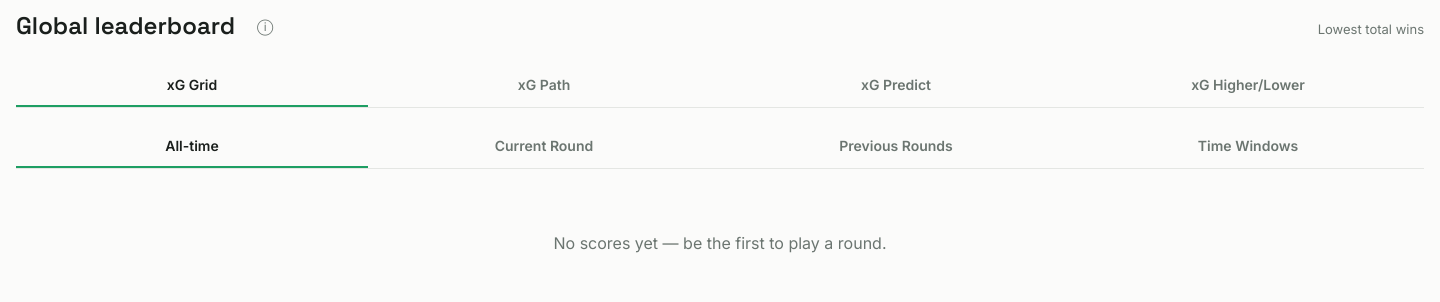
it: LiveLeaderboard › REQ407: an active round with no participants yet shows a calm empty state, distinct from "no active round"
Expected: the text "No scores yet — be the first to play a round." is shown, [554,233,886,253]
Click the tab "Current Round": (544, 146) [368,124,720,168]
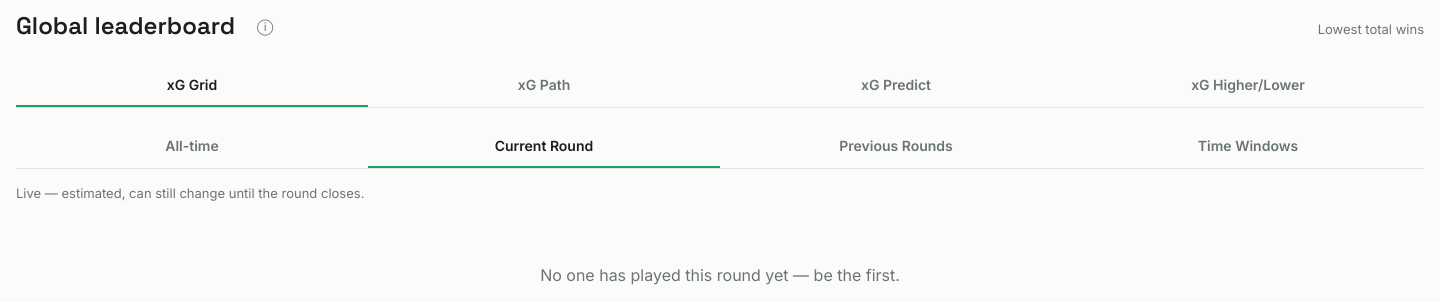
Result: the text "No one has played this round yet — be the first." is shown at [540,265,900,285]
